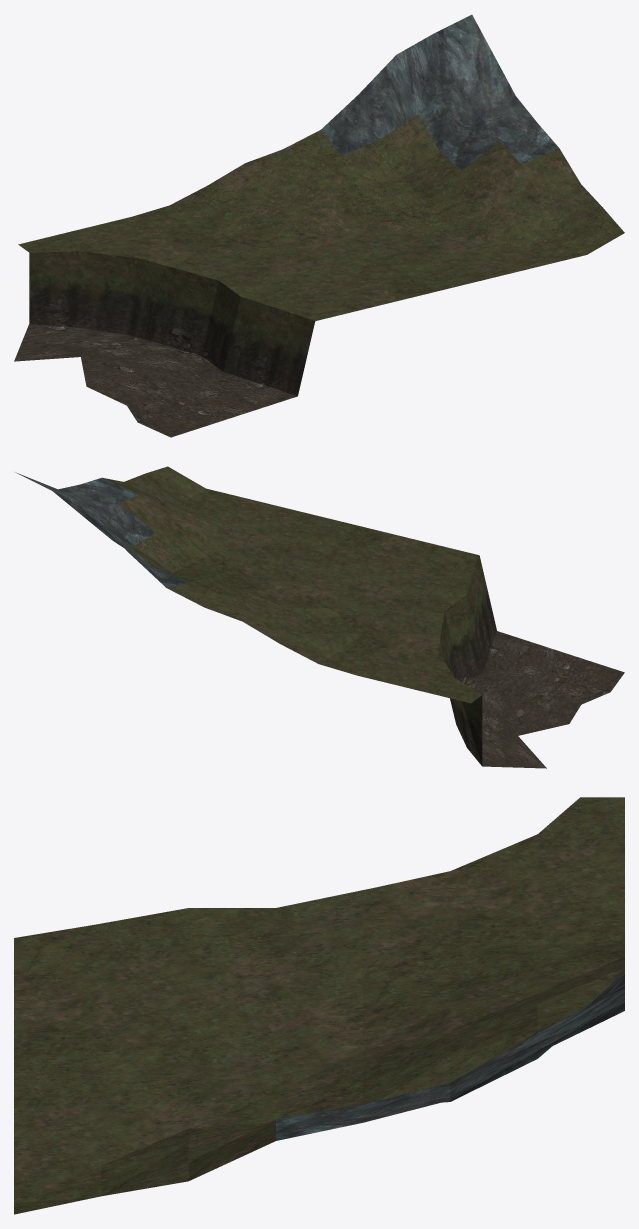
File: terrain_base04.fbx
The picture shows the model from 3 angles, top to bottom: view 1: azimuth 30°, elevation 25°; view 2: azimuth 150°, elevation 25°; view 3: azimuth 270°, elevation 25°; orthographic projection. The views are drawn at different scales.
Visible parts, largest first — view 1: obj2.010; view 2: obj2.010; view 3: obj2.010.
Part boxes in pixels (box(x1,y1,x2,y2)): obj2.010: box(14, 14, 624, 437); obj2.010: box(15, 466, 624, 768); obj2.010: box(14, 797, 624, 1214).
Size of the model in its own units: 32.64 by 12.66 by 17.5.
